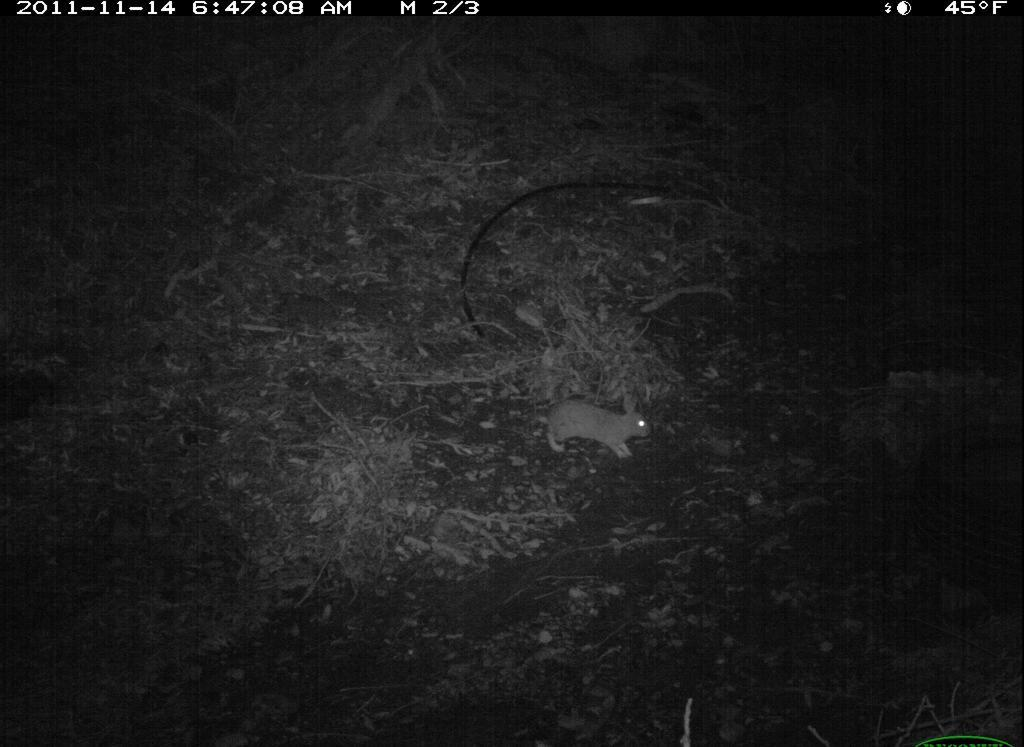rabbit: (542, 384, 656, 468)
